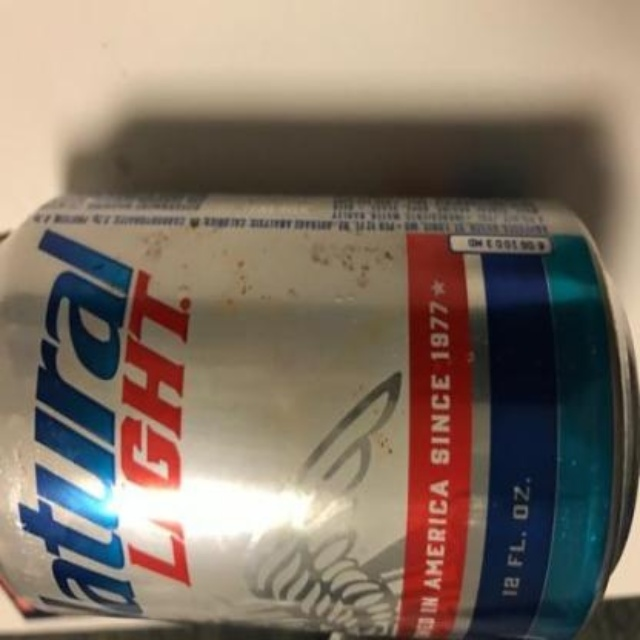trash: (0, 195, 637, 638)
